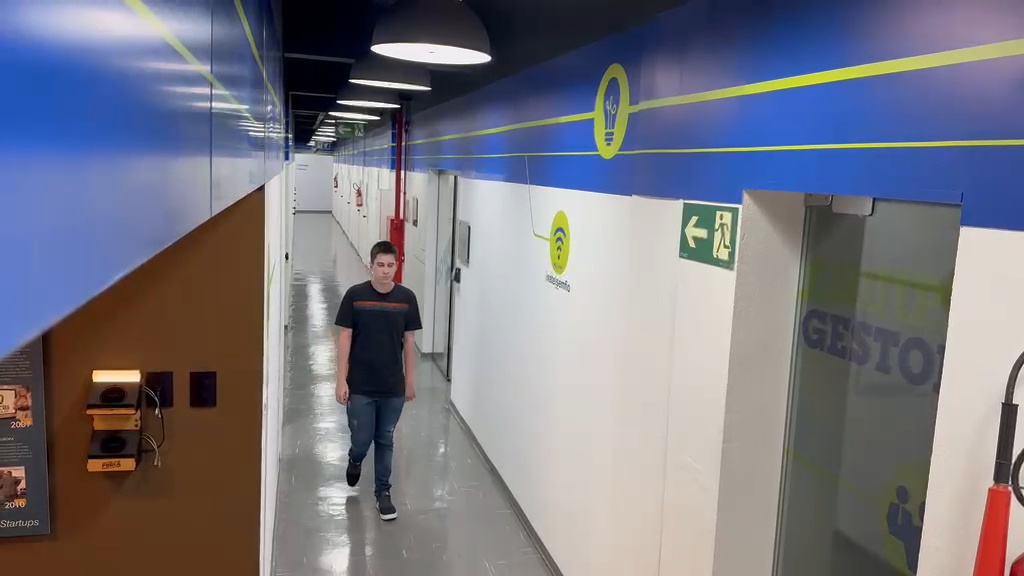person: (332, 240, 423, 520)
